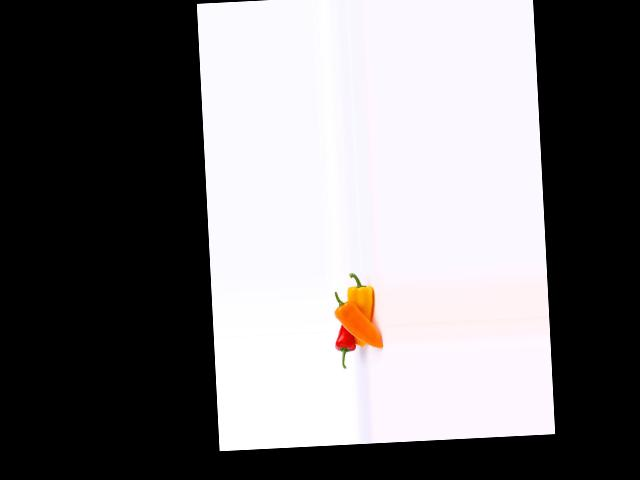bell_pepper: (343, 269, 380, 328)
